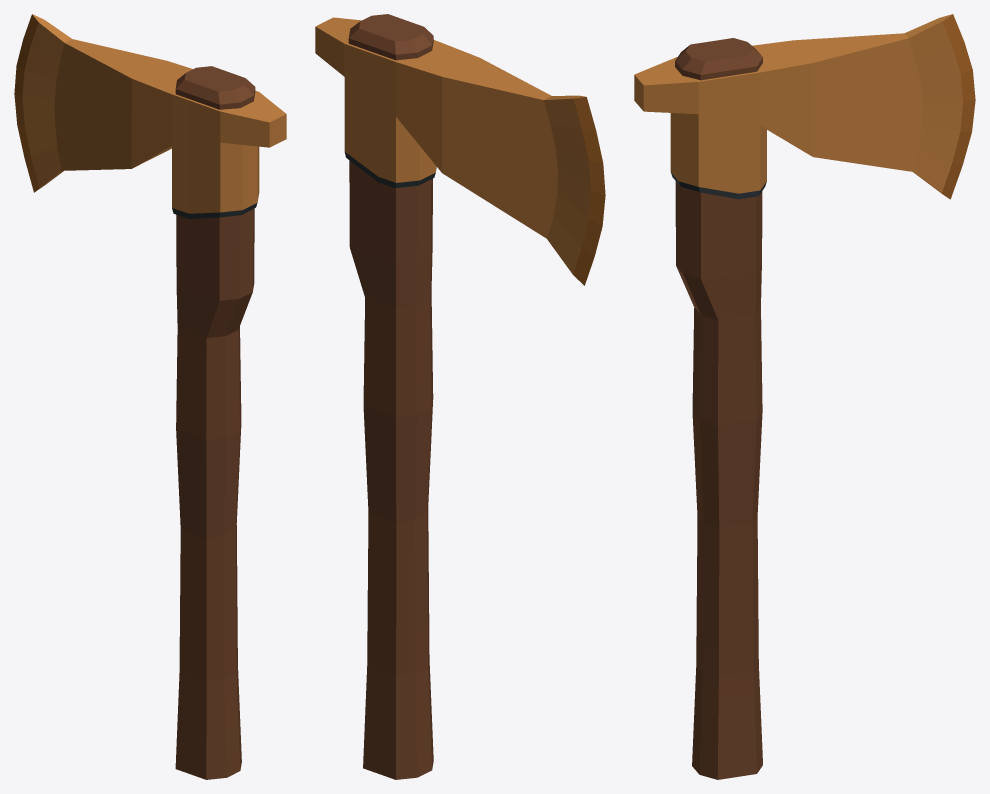
Rendered from axe_rusty.glb.
3 views of the same model, side by side, from view 1: azimuth 30°, elevation 25°; view 2: azimuth 210°, elevation 25°; view 3: azimuth 270°, elevation 25° (orthographic). The views are drawn at different scales.
Parts seen in each view (by area): view 1: AxeV12; view 2: AxeV12; view 3: AxeV12.
Boxes of the visible parts, box(x1,y1,x2,y2) form: AxeV12: box(14, 14, 286, 779); AxeV12: box(315, 14, 605, 779); AxeV12: box(634, 14, 975, 779).
Bounding box in the file's own units: 0.1067 × 0.6234 × 0.2689.
Materials: 3 (3 with a texture image).
